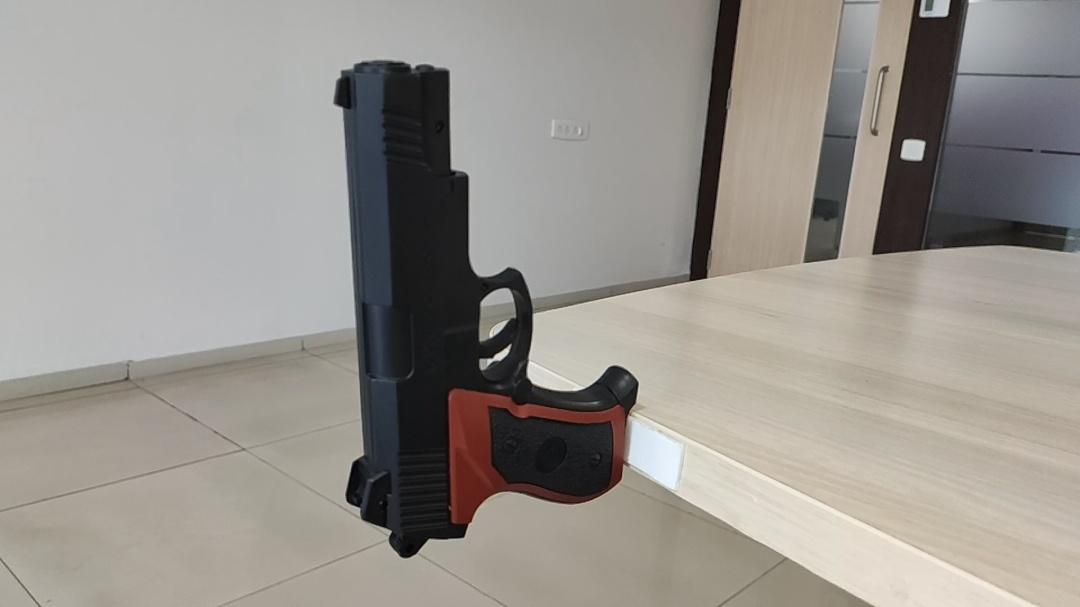gun: (410, 237, 447, 256)
